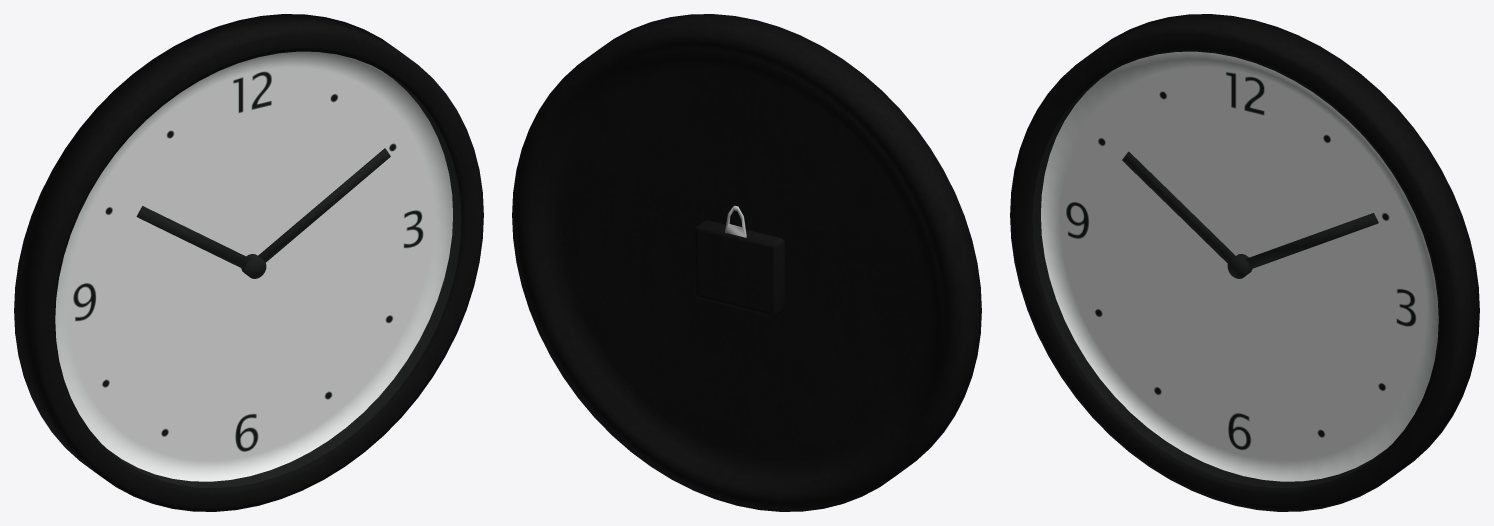
3 renders of one model, left to right at view 1: azimuth 30°, elevation 25°; view 2: azimuth 150°, elevation 25°; view 3: azimuth 330°, elevation 25°, orthographic.
Visible parts, largest first — view 1: WallClock3; view 2: WallClock3; view 3: WallClock3.
Part boxes in pixels (<box>): WallClock3: <box>14,14,483,511</box>; WallClock3: <box>512,14,981,511</box>; WallClock3: <box>1010,14,1479,511</box>.
Size of the model in its own units: 0.305 by 0.305 by 0.0269.
Materials: 1 (1 with a texture image).
